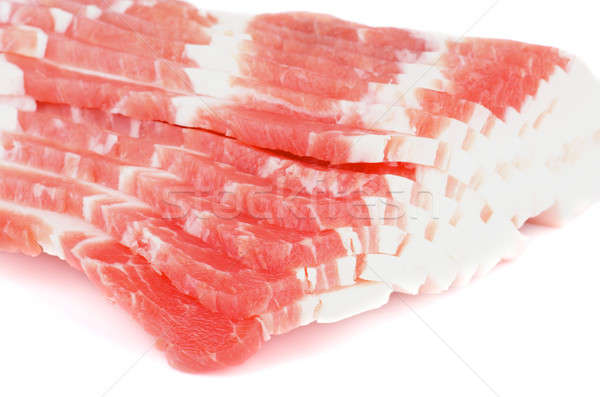bacon: (1, 26, 589, 338)
